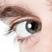eye: (26, 21, 39, 32)
